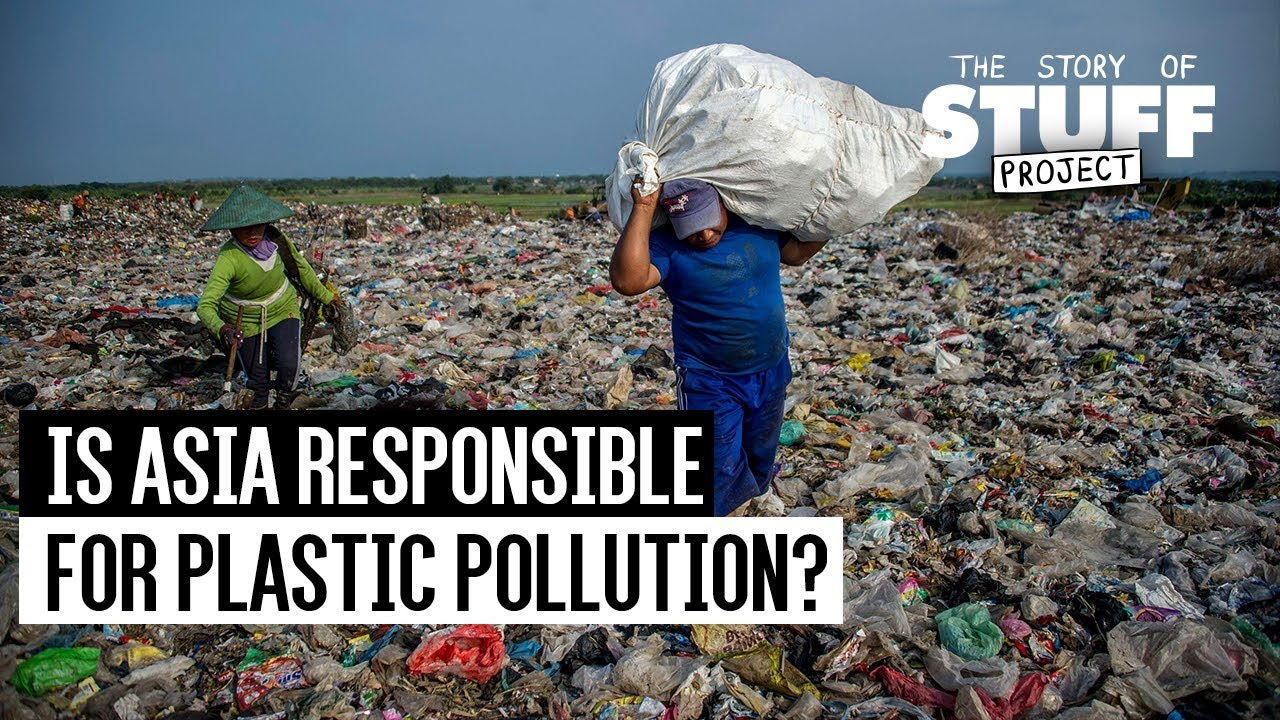plastic_bagwdw: (524, 11, 1000, 351)
